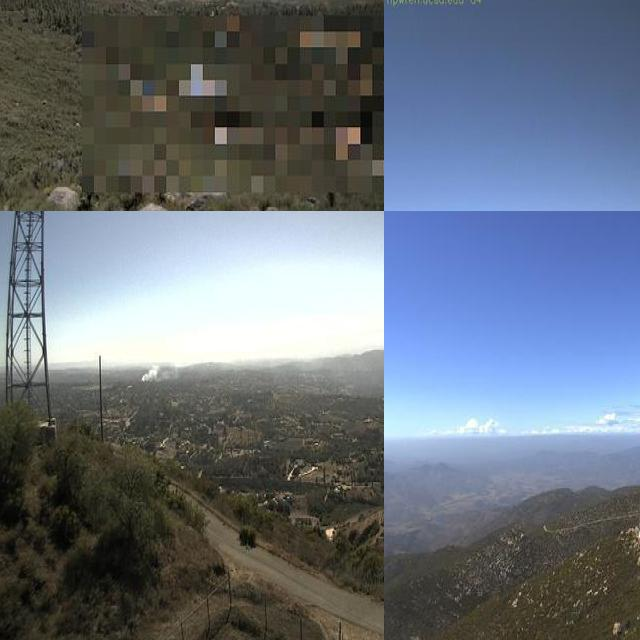smoke: (136, 353, 183, 383)
